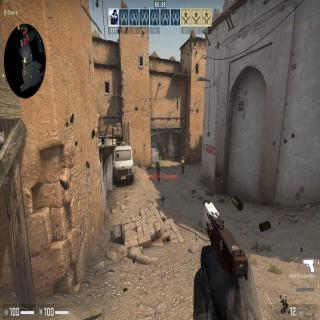CT-Body: (180, 156, 186, 172), (156, 159, 160, 179), (162, 145, 165, 159)
CT-Head: (156, 160, 158, 165), (182, 156, 184, 160), (163, 146, 164, 149)
